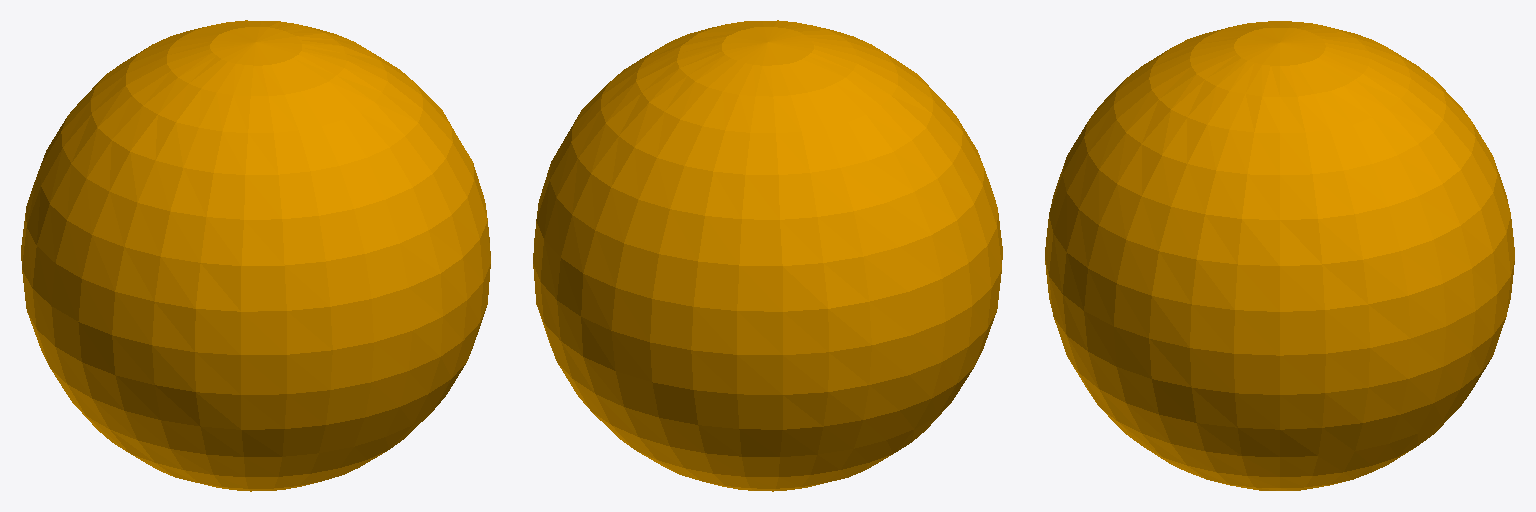
robot.urdf — light_room5:
<?xml version="1.0" ?>

<robot name="light_room5" xmlns:xi="http://www.w3.org/2001/XInclude"
	xmlns:gazebo="http://playerstage.sourceforge.net/gazebo/xmlschema/#gz"
	xmlns:model="http://playerstage.sourceforge.net/gazebo/xmlschema/#model"
	xmlns:sensor="http://playerstage.sourceforge.net/gazebo/xmlschema/#sensor"
	xmlns:body="http://playerstage.sourceforge.net/gazebo/xmlschema/#body"
	xmlns:geom="http://playerstage.sourceforge.net/gazebo/xmlschema/#geom"
	xmlns:joint="http://playerstage.sourceforge.net/gazebo/xmlschema/#joint"
	xmlns:interface="http://playerstage.sourceforge.net/gazebo/xmlschema/#interface"
	xmlns:rendering="http://playerstage.sourceforge.net/gazebo/xmlschema/#rendering"
	xmlns:renderable="http://playerstage.sourceforge.net/gazebo/xmlschema/#renderable"
	xmlns:controller="http://playerstage.sourceforge.net/gazebo/xmlschema/#controller"
	xmlns:physics="http://playerstage.sourceforge.net/gazebo/xmlschema/#physics">

  <link name="bulb_r5">
   <inertial>
	<mass value="1" />
			<com xyz="12.2 1.85 1.9" />
			<inertia ixx="0" ixy="0.0" ixz="0.0" iyy="0" iyz="0.0" izz="0" />
		</inertial>

		<visual>
			<origin xyz="12.2 1.85 1.9" rpy="0 0 0" />  <!--   definition of the visual postion of the object!! -->
			<geometry>
				<sphere radius="0.0001" />
			</geometry>
		</visual>
		<collision>
			<origin xyz="12.2 1.85 1.9" rpy="0 0 0" />
			<geometry>
				<sphere radius="0.0001" />
			</geometry>
		</collision>
	</link>

	<gazebo reference="bulb_r5">
		<model:renderable name="light_r5">
			<xyz>12.2 1.85 1.9</xyz>
			<static>true</static>
			<light>
				<type>point</type>
				<diffuseColor>0.1 0.1 0.1</diffuseColor>
				<specularColor>.01 .01 .01</specularColor>
				<attenuation>0.1 0.1 0.0001</attenuation>
				<range>4</range>
			</light>
		</model:renderable>
	</gazebo>
</robot>

--- What the picture shows (computed from the rendered views, not written in the file) ---
The picture shows the robot from 3 angles, left to right: view 1: azimuth 30°, elevation 25°; view 2: azimuth 150°, elevation 25°; view 3: azimuth 270°, elevation 25°; orthographic projection.
Model light_room5 with 1 links and 0 joints (none), rooted at bulb_r5, posed every joint at zero.
Links seen in each view (by area): view 1: bulb_r5; view 2: bulb_r5; view 3: bulb_r5.
Boxes of the visible links, box(x1,y1,x2,y2) form: bulb_r5: box(21, 20, 490, 491); bulb_r5: box(533, 20, 1002, 491); bulb_r5: box(1045, 21, 1514, 490).
Bounding box of the posed robot: 0.0002 × 0.0002 × 0.0002 m (x, y, z).
Geometry: primitives only (box / cylinder / sphere), no mesh files.